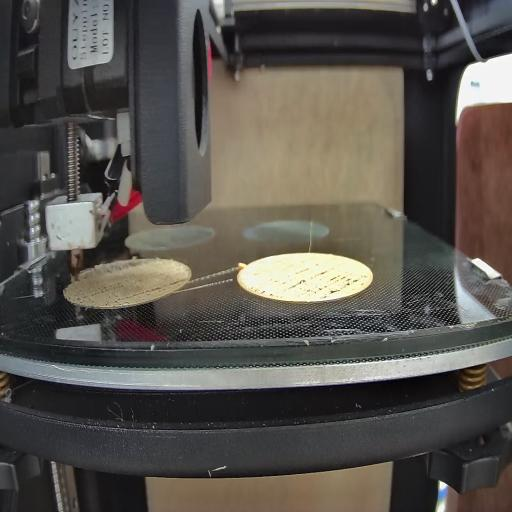under_extrusion: (248, 272, 372, 300), (109, 284, 189, 310)
